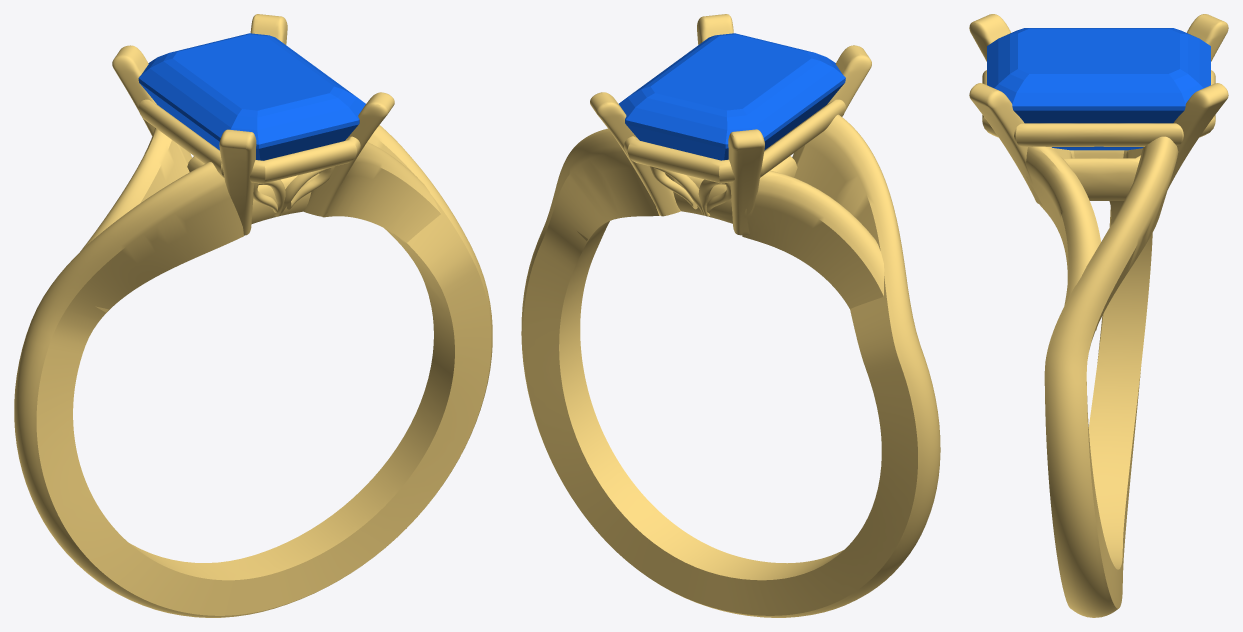
The model's file is Nicholas v3.glb.
3 renders of one model, left to right at view 1: azimuth 30°, elevation 25°; view 2: azimuth 150°, elevation 25°; view 3: azimuth 270°, elevation 25°, orthographic.
Parts seen in each view (by area): view 1: v3 YG for 3d model, Nicholas center sapph for 3d model; view 2: v3 YG for 3d model, Nicholas center sapph for 3d model; view 3: v3 YG for 3d model, Nicholas center sapph for 3d model.
Boxes of the visible parts, x1,y1,x2,y2 form: v3 YG for 3d model: [14, 14, 492, 617]; Nicholas center sapph for 3d model: [138, 33, 365, 160]; v3 YG for 3d model: [521, 14, 940, 617]; Nicholas center sapph for 3d model: [619, 33, 845, 160]; v3 YG for 3d model: [969, 14, 1228, 617]; Nicholas center sapph for 3d model: [987, 28, 1210, 150].
Bounding box in the file's own units: 18.42 × 21.38 × 9.26.
